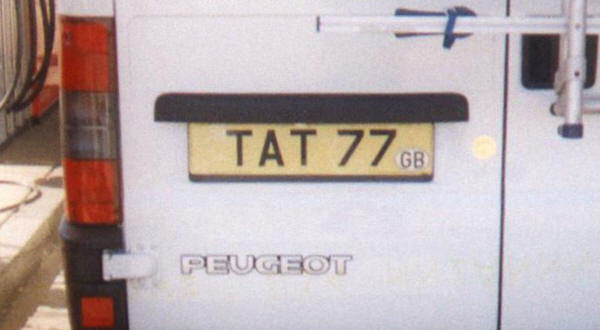license_plate: (186, 122, 436, 177)
